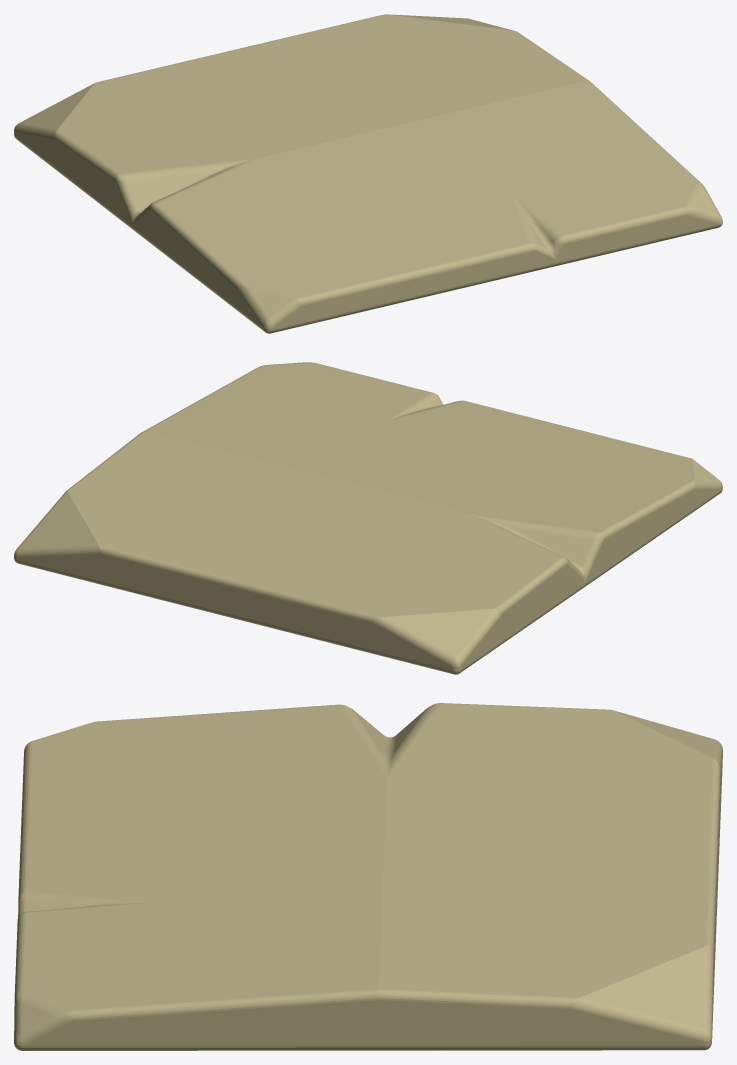
The model's file is Tile3_high.fbx.
3 views of the same model, one above another, from view 1: azimuth 30°, elevation 25°; view 2: azimuth 150°, elevation 25°; view 3: azimuth 270°, elevation 25° (orthographic). The views are drawn at different scales.
Parts seen in each view (by area): view 1: Tile1_high.002; view 2: Tile1_high.002; view 3: Tile1_high.002.
Part boxes in pixels (box(x1,y1,x2,y2)): Tile1_high.002: box(14, 14, 722, 333); Tile1_high.002: box(14, 362, 722, 674); Tile1_high.002: box(14, 703, 722, 1050).
Bounding box in the file's own units: 69 × 6.89 × 69.
